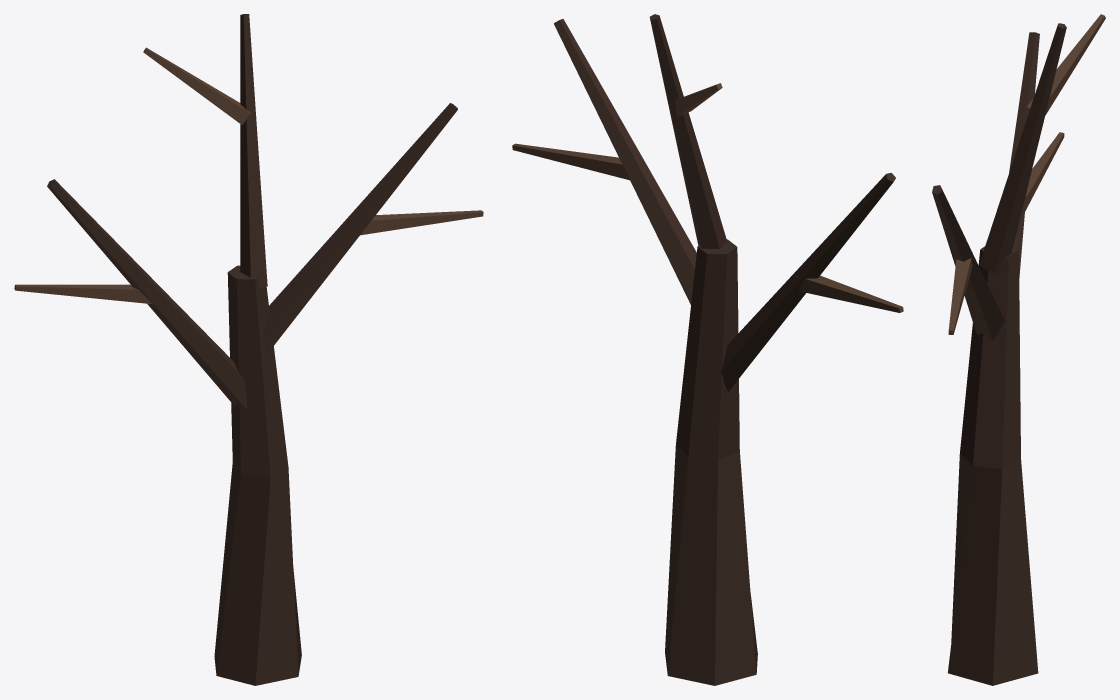
Rendered from deco_tree_a.glb.
3 views of the same model, side by side, from view 1: azimuth 30°, elevation 25°; view 2: azimuth 150°, elevation 25°; view 3: azimuth 270°, elevation 25° (orthographic). The views are drawn at different scales.
Parts seen in each view (by area): view 1: deco_tree_a_mesh; view 2: deco_tree_a_mesh; view 3: deco_tree_a_mesh.
Boxes of the visible parts, x1,y1,x2,y2 form: deco_tree_a_mesh: (14, 14, 483, 685); deco_tree_a_mesh: (512, 14, 903, 685); deco_tree_a_mesh: (932, 14, 1105, 685).
Bounding box in the file's own units: 0.2196 × 0.3145 × 0.0763.
